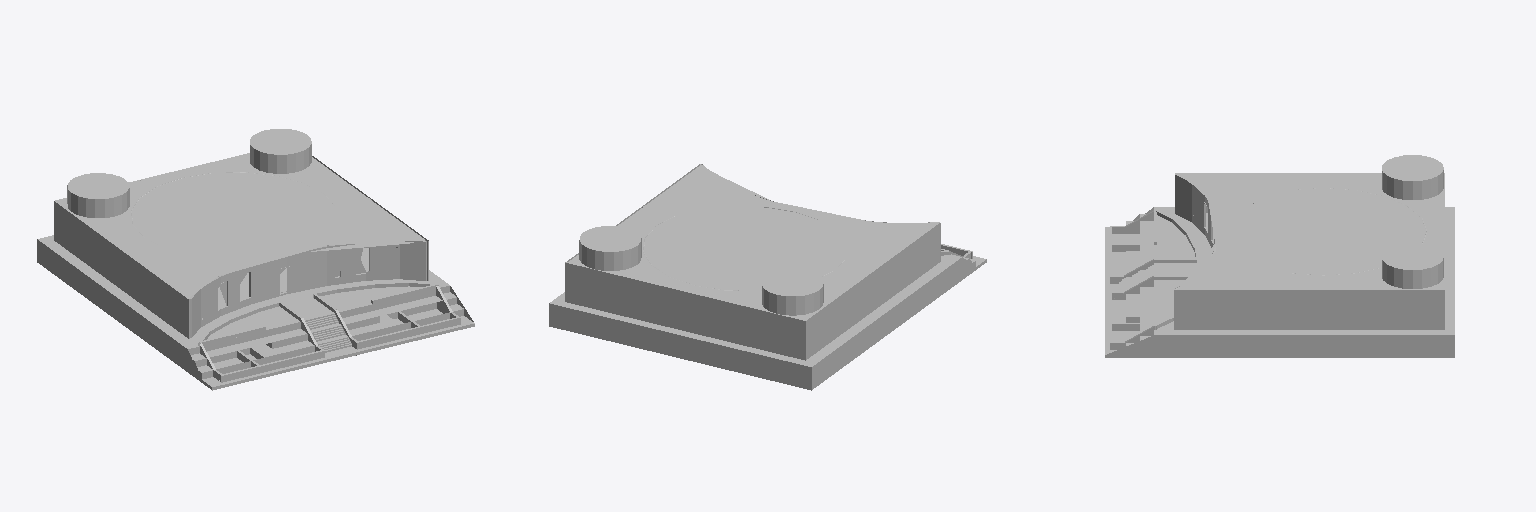
File: Concreto.obj
3 renders of one model, left to right at view 1: azimuth 30°, elevation 25°; view 2: azimuth 150°, elevation 25°; view 3: azimuth 270°, elevation 25°, orthographic.
Visible parts, largest first — view 1: pCube41, pasted__pCube37 group89, group60_pasted__group57_pasted__pPipe4, pasted__pCube2group21, pCylinder12, pCylinder13, pasted__pCube33 group34, pasted__pPipe4group18, pasted__pasted__pCube33 pasted__group34 group35; view 2: pCube41, pasted__pCube37 group89, pasted__pasted__pasted__pCube2pasted__group21group24 group9, pasted__pCube2group21, pCylinder13, pCylinder12; view 3: pCube41, pasted__pCube37 group89, polySurface1 Marmol, pCylinder12, pCylinder13, group60_pasted__group57_pasted__pPipe4.
Boxes of the visible parts, <box> form: pCube41: <box>55,154,428,300</box>; pasted__pCube37 group89: <box>37,235,474,390</box>; group60_pasted__group57_pasted__pPipe4: <box>190,241,426,337</box>; pasted__pCube2group21: <box>55,201,189,338</box>; pCylinder12: <box>67,173,129,217</box>; pCylinder13: <box>250,129,311,173</box>; pasted__pCube33 group34: <box>220,317,460,382</box>; pasted__pPipe4group18: <box>198,282,436,345</box>; pasted__pasted__pCube33 pasted__group34 group35: <box>199,284,438,346</box>; pCube41: <box>566,164,936,322</box>; pasted__pCube37 group89: <box>549,254,986,390</box>; pasted__pasted__pasted__pCube2pasted__group21group24 group9: <box>566,262,806,360</box>; pasted__pCube2group21: <box>806,222,939,358</box>; pCylinder13: <box>579,226,641,270</box>; pCylinder12: <box>762,270,823,315</box>; pCube41: <box>1175,174,1442,291</box>; pasted__pCube37 group89: <box>1105,207,1454,357</box>; polySurface1 Marmol: <box>1174,290,1444,329</box>; pCylinder12: <box>1382,155,1443,199</box>; pCylinder13: <box>1382,244,1443,288</box>; group60_pasted__group57_pasted__pPipe4: <box>1175,174,1215,289</box>.
Bounding box in the file's own units: 32000 × 10125 × 37000.